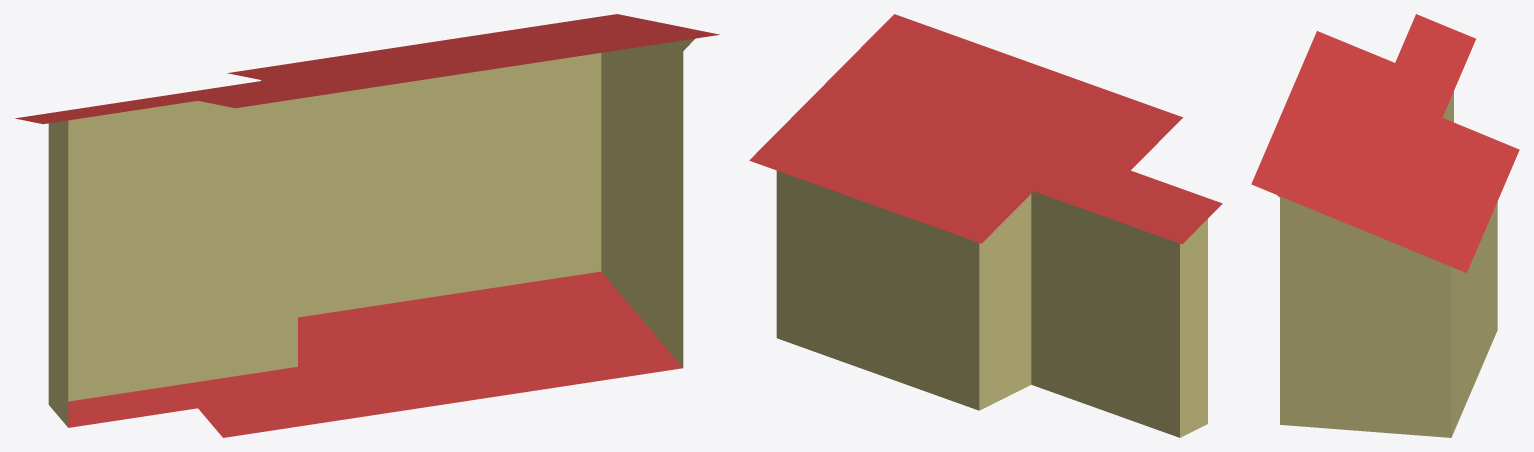
3 renders of one model, left to right at view 1: azimuth 30°, elevation 25°; view 2: azimuth 150°, elevation 25°; view 3: azimuth 270°, elevation 25°, orthographic. The views are drawn at different scales.
Bounding box in the file's own units: 19.77 × 10.53 × 10.67.
